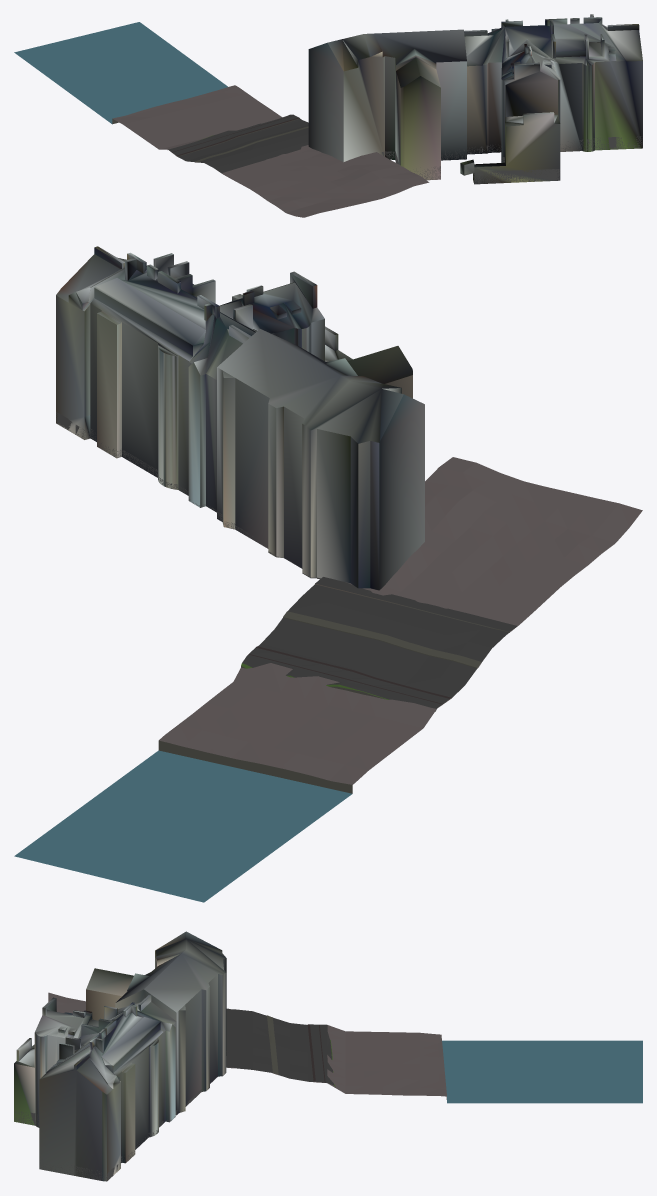
The picture shows the model from 3 angles, top to bottom: view 1: azimuth 30°, elevation 25°; view 2: azimuth 150°, elevation 25°; view 3: azimuth 270°, elevation 25°; orthographic projection. The views are drawn at different scales.
Parts seen in each view (by area): view 1: c_p06_p00; view 2: c_p06_p00; view 3: c_p06_p00.
Part boxes in pixels (<box>): c_p06_p00: <box>14,14,642,217</box>; c_p06_p00: <box>14,246,642,902</box>; c_p06_p00: <box>14,931,642,1181</box>.
Bounding box in the file's own units: 91.54 × 37.55 × 135.
